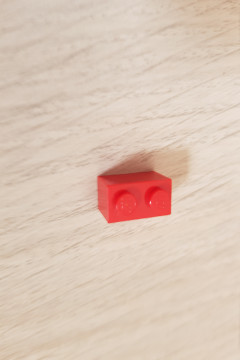1x2 red: (96, 170, 173, 225)
